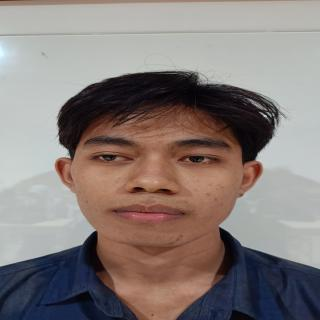Netral: (64, 100, 248, 255)
